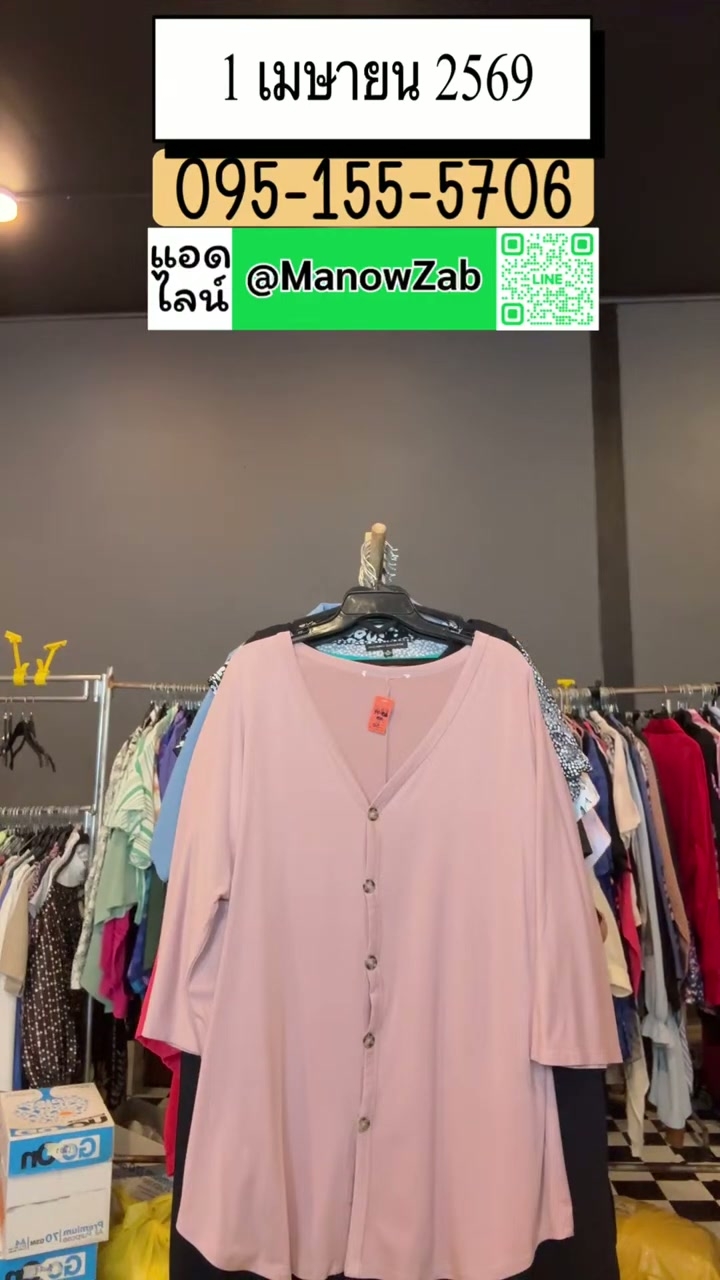display_shirt: (148, 633, 618, 1279)
